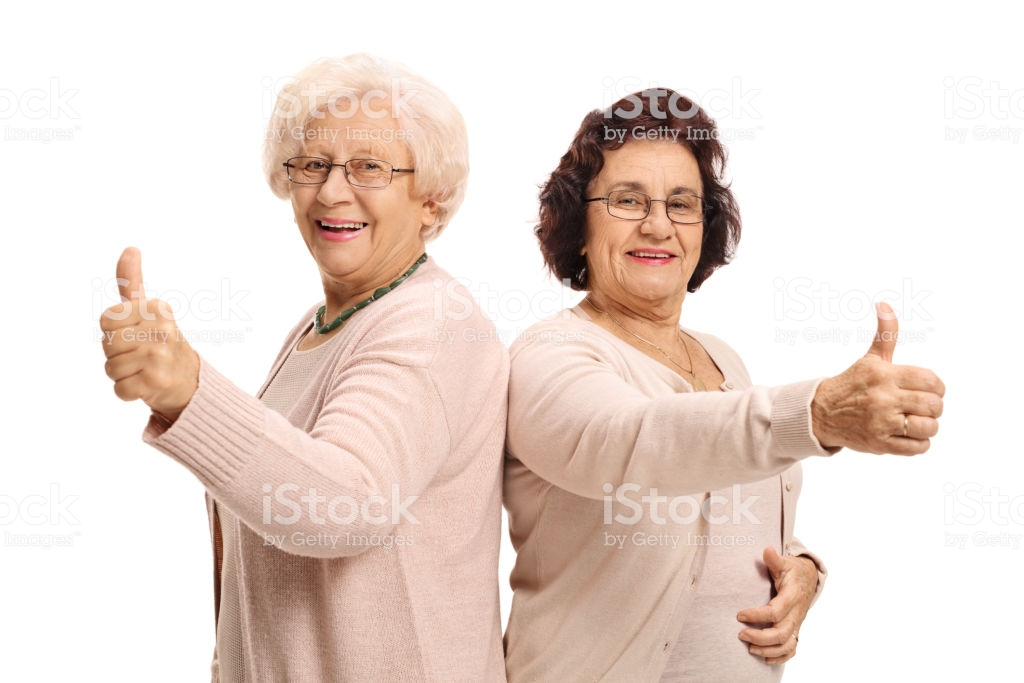thumbsup: (851, 299, 948, 460), (98, 244, 180, 405)
